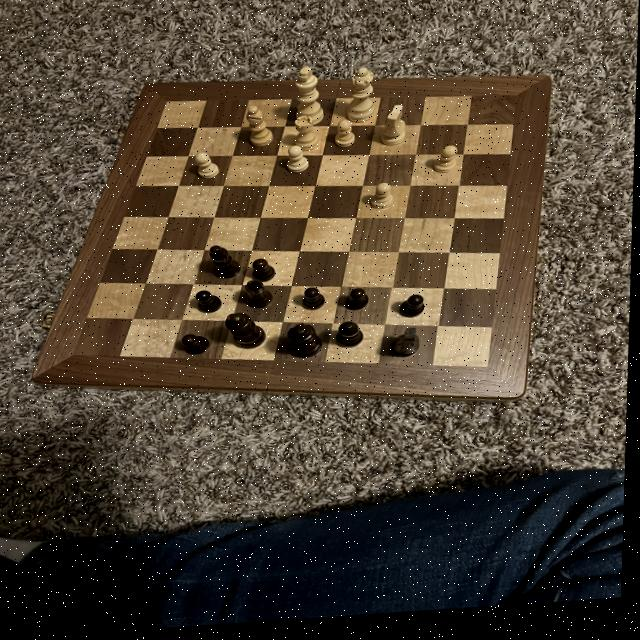bishop: (204, 246, 248, 284), (333, 317, 371, 358)
black-bishop: (223, 311, 277, 359)
black-king: (390, 331, 426, 369)
black-knight: (341, 288, 378, 320), (394, 297, 431, 327), (179, 330, 216, 360), (297, 289, 334, 316), (194, 291, 226, 320), (249, 259, 279, 287)
black-pawn: (285, 324, 330, 365)
black-queen: (241, 281, 276, 315)
black-rook: (242, 103, 279, 156)
white-bishop: (289, 67, 329, 131)
white-king: (376, 106, 411, 156)
white-knight: (284, 147, 314, 180), (332, 121, 360, 156), (433, 150, 462, 182), (192, 153, 221, 184), (371, 184, 396, 219)
white-pawn: (342, 67, 381, 130)
white-queen: (290, 115, 323, 158)
